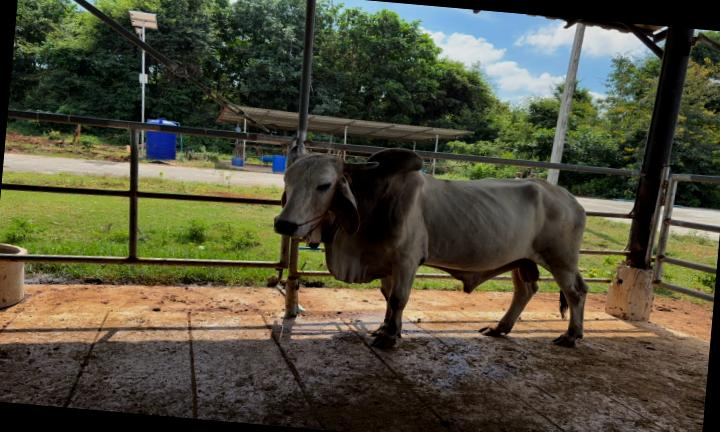Brahman: (274, 146, 587, 347)
